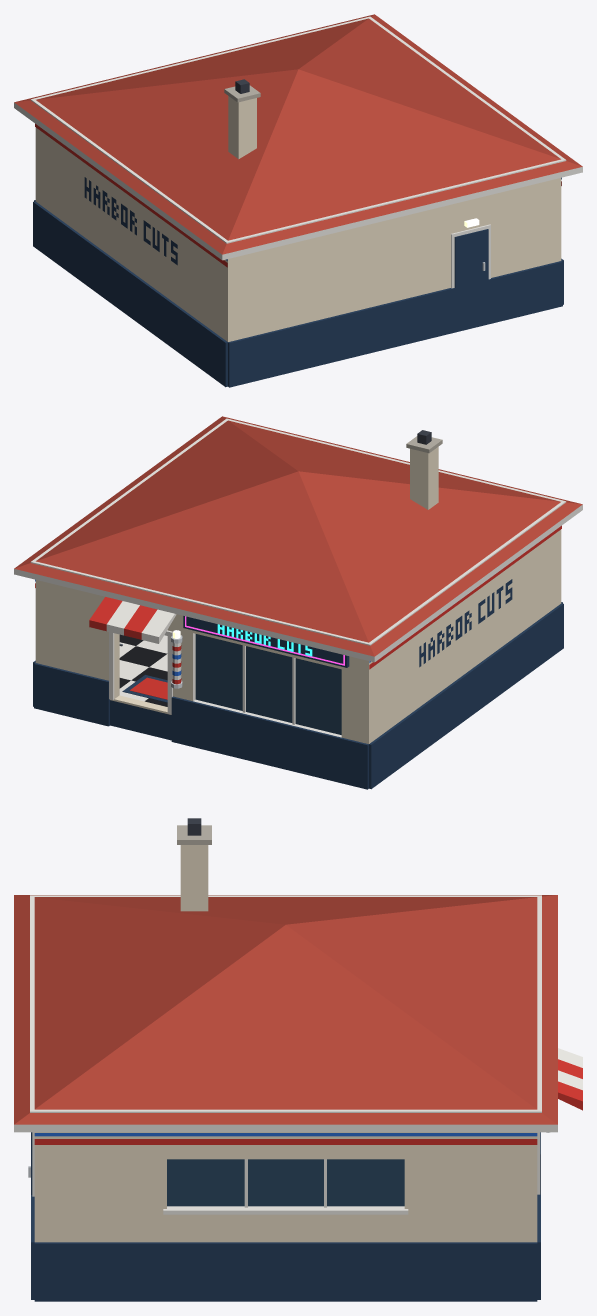
Rendered from barber.glb.
The picture shows the model from 3 angles, top to bottom: view 1: azimuth 30°, elevation 25°; view 2: azimuth 150°, elevation 25°; view 3: azimuth 270°, elevation 25°; orthographic projection. The views are drawn at different scales.
Visible parts, largest first — view 1: Building, Building_Detail; view 2: Building, Building_Glass, Building_Detail, Building_Neon; view 3: Building, Building_Glass, Building_Detail.
Part boxes in pixels (x1,y1,x2,y2): Building: (14, 14, 582, 387); Building_Detail: (35, 123, 561, 267); Building: (14, 416, 582, 789); Building_Glass: (195, 634, 341, 734); Building_Detail: (35, 525, 561, 702); Building_Neon: (185, 616, 344, 665); Building: (14, 818, 557, 1301); Building_Glass: (167, 1159, 404, 1206); Building_Detail: (34, 1048, 582, 1144).
Bounding box in the file's own units: 11.9 × 7.6 × 12.45.
